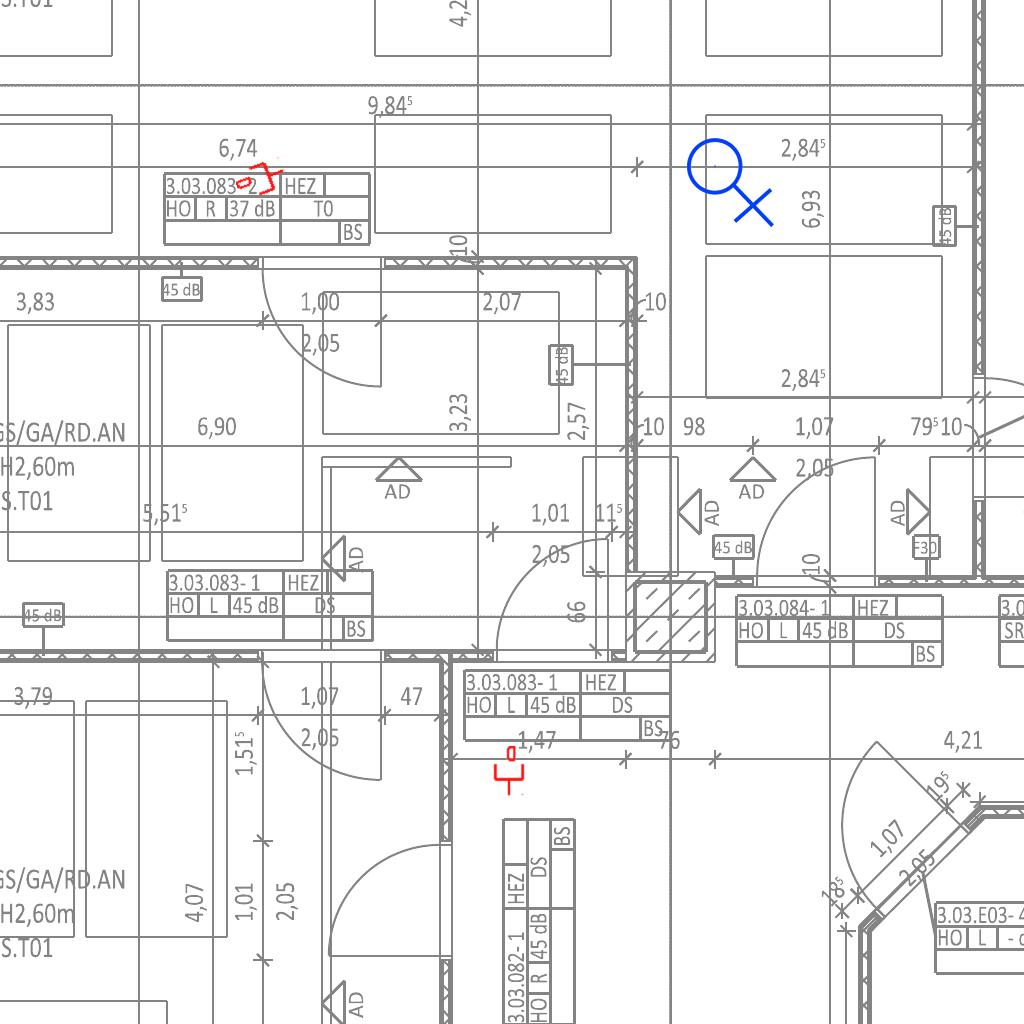Datenanschluss_einfach: (231, 154, 291, 204), (492, 746, 526, 796)
Elektroanschluss_allgemein_230V_Geraeteanschlussdose_230V: (685, 129, 779, 228)
